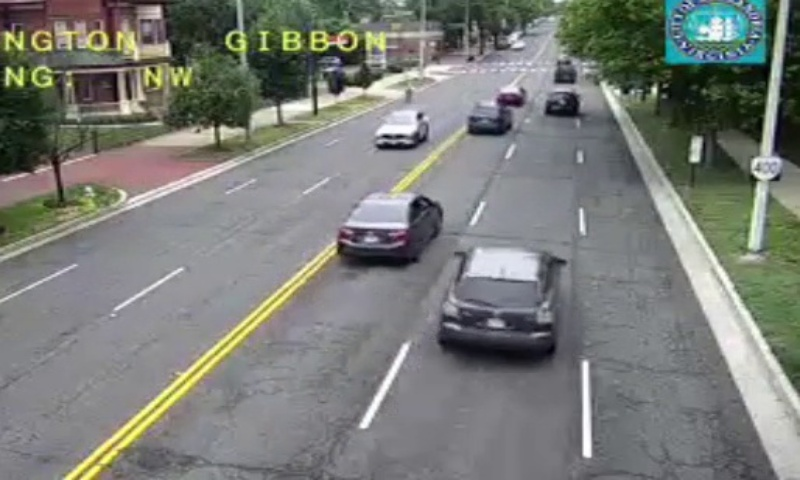car: (438, 246, 557, 351), (334, 193, 443, 255), (466, 105, 507, 133), (543, 90, 578, 116), (496, 86, 524, 106)
